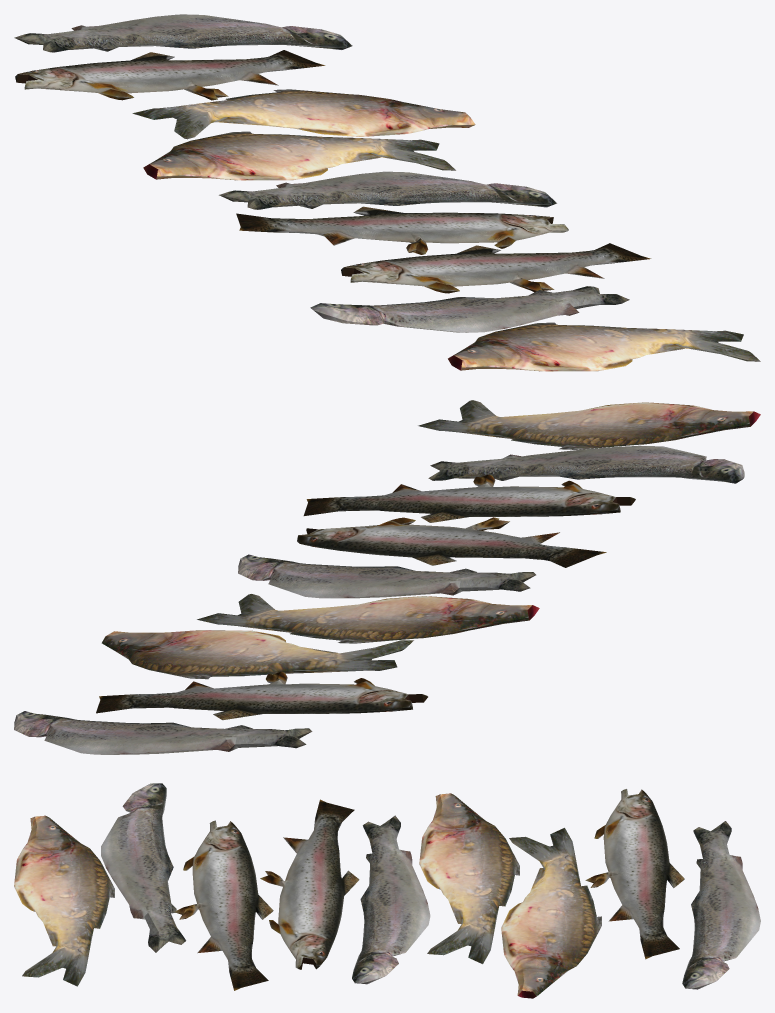
File: fish_booth01_LOD01.fbx
3 renders of one model, top to bottom at view 1: azimuth 30°, elevation 25°; view 2: azimuth 150°, elevation 25°; view 3: azimuth 270°, elevation 25°, orthographic. The views are drawn at different scales.
Visible parts, largest first — view 1: Mesh Object; view 2: Mesh Object; view 3: Mesh Object.
Boxes of the visible parts, x1=… form: Mesh Object: x1=14, y1=14, x2=760, y2=371; Mesh Object: x1=14, y1=400, x2=760, y2=754; Mesh Object: x1=14, y1=783, x2=760, y2=998.
Size of the model in its own units: 0.8021 by 0.1755 by 1.7.
